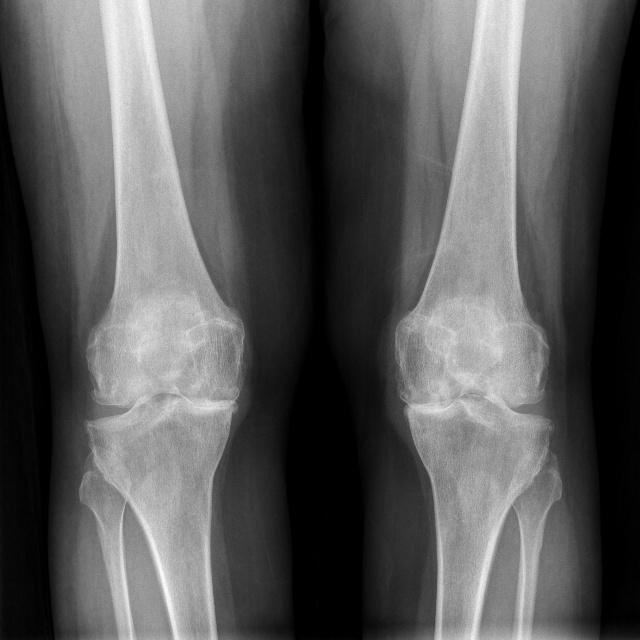Knee: (73, 296, 256, 490), (381, 309, 562, 478)
